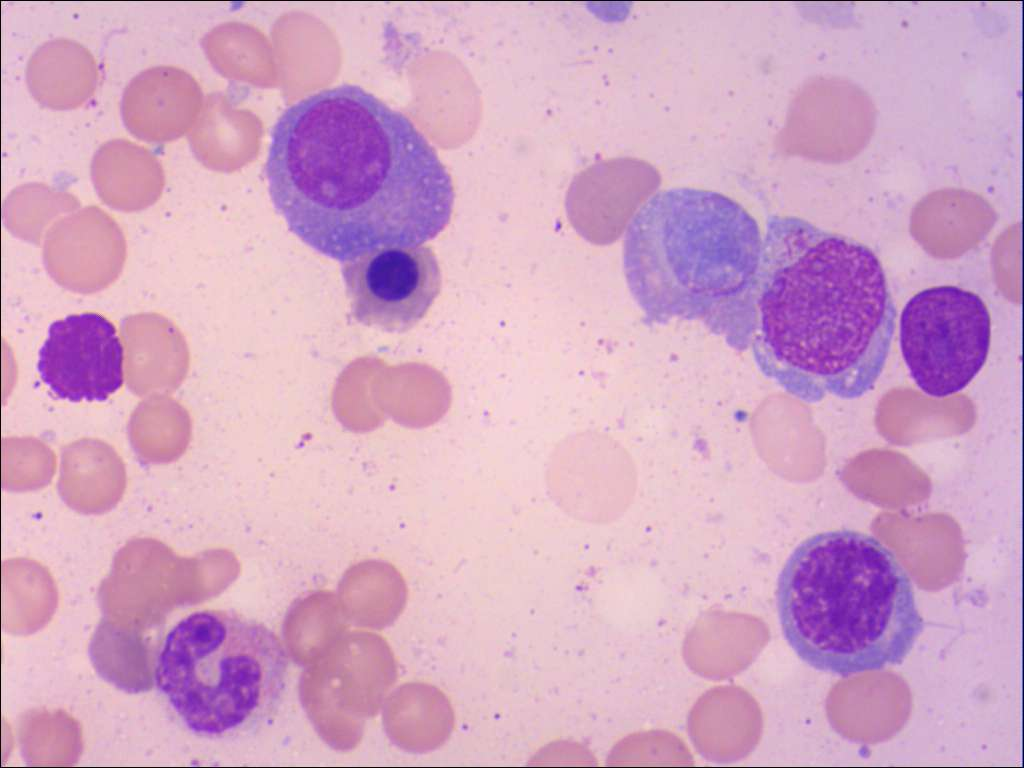23: (772, 526, 930, 678)
24: (334, 238, 447, 336)
5: (147, 602, 294, 746)
51: (261, 78, 458, 265), (751, 208, 899, 408)
x: (617, 181, 762, 355), (895, 279, 994, 402)
